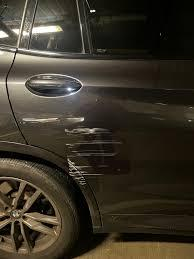scratch: (18, 105, 129, 190)
